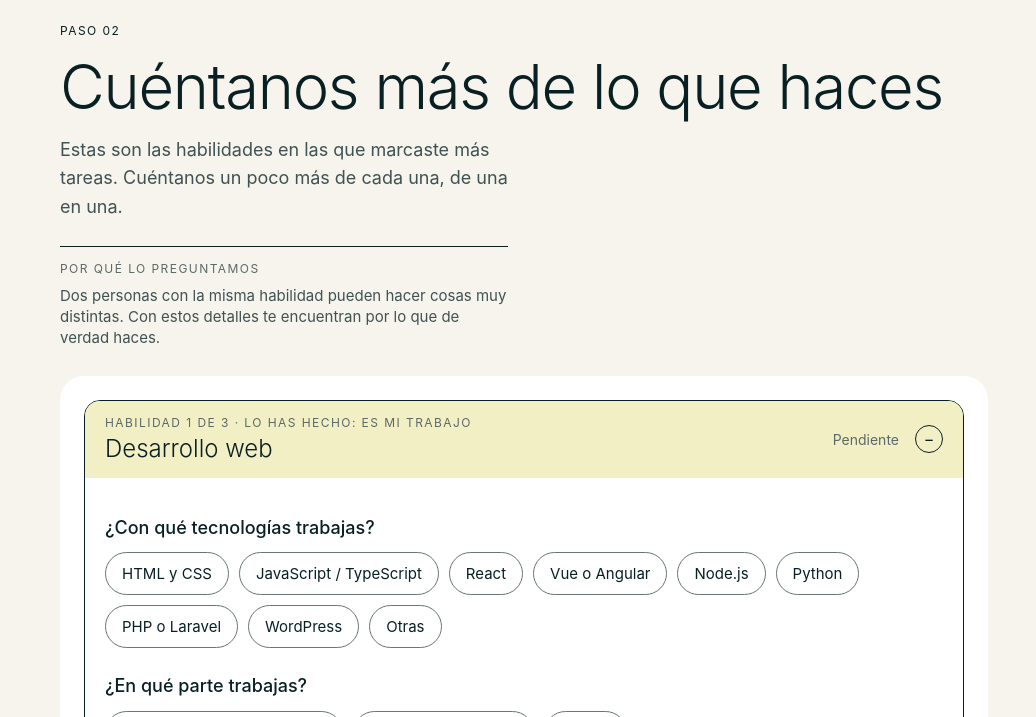
it: ProfundizarView › al contestar cuánto tiempo lleva, la sección pasa a "Lista" y, cerrada, resume lo contestado
Click the checkbox labelled "React".
click(486, 574)  # box [449,552,523,596]
(page scrolled)
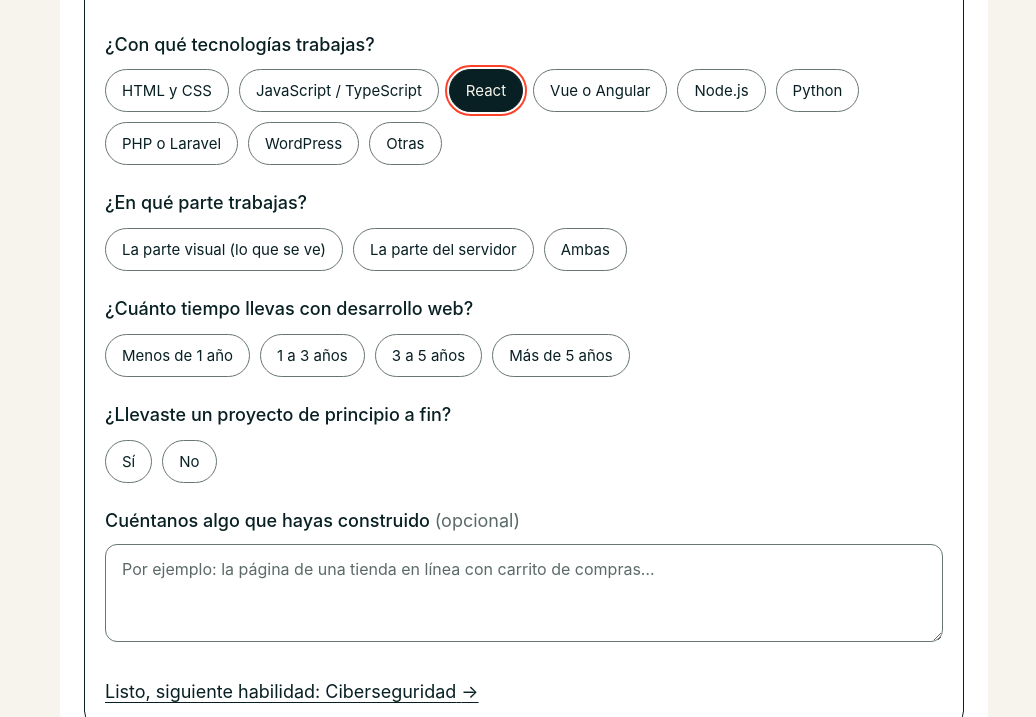
Click the radio button labelled "3 a 5 años".
click(428, 356)  # box [375,334,482,377]
(page scrolled)
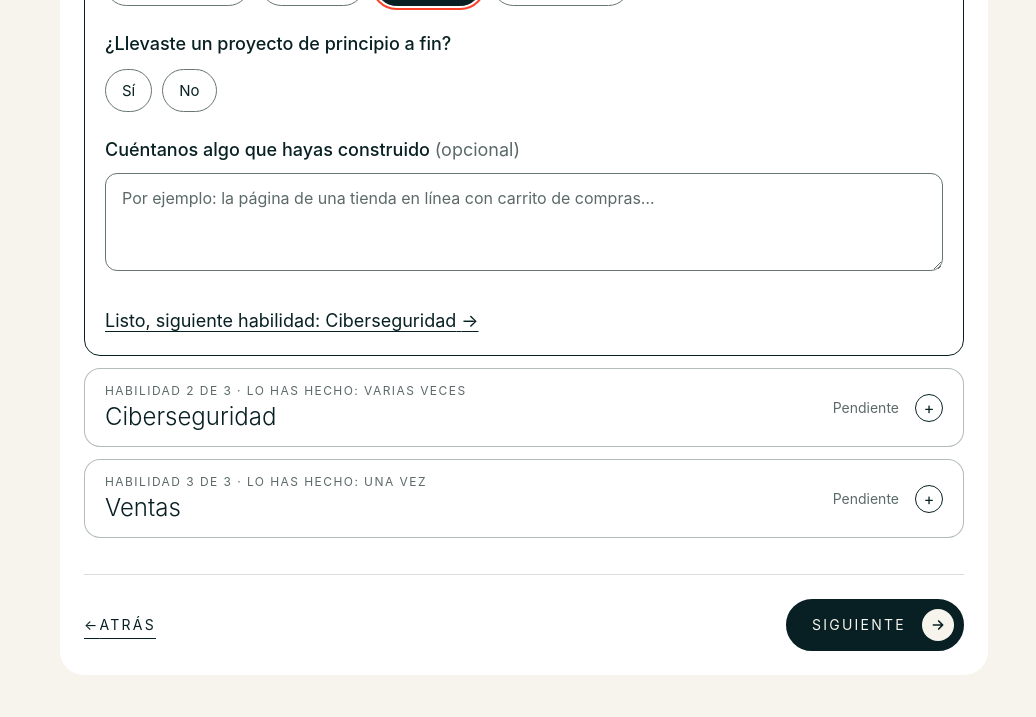
Click the button that starts with "Habilidad 2 de 3".
click(169, 391)  # box [85,370,963,446]
(page scrolled)
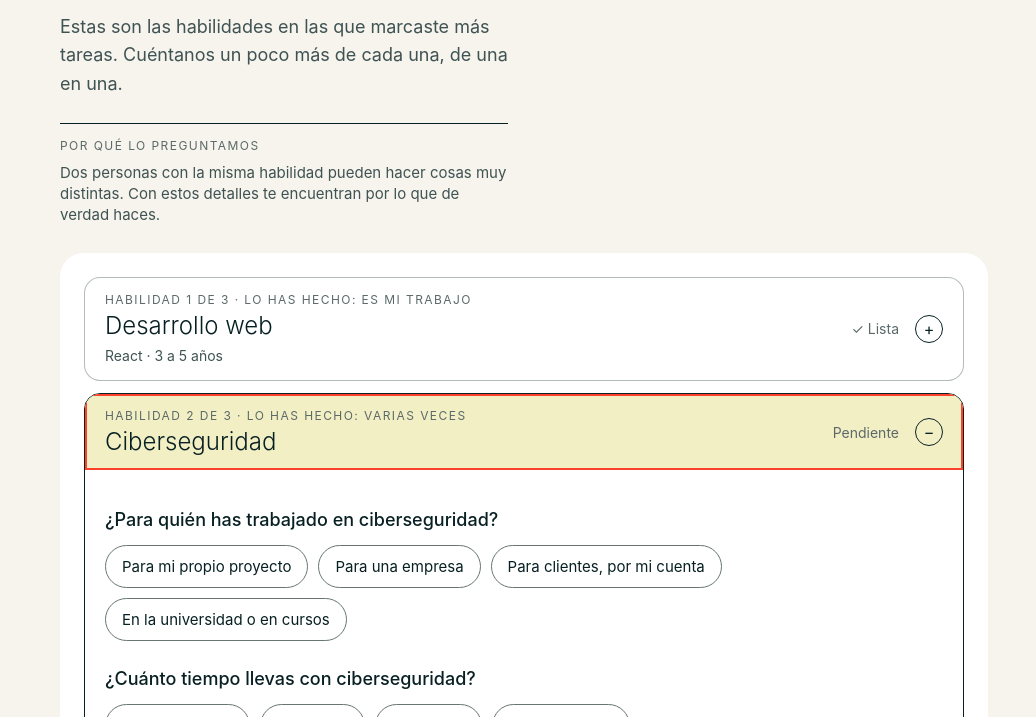
Expected: the text "React · 3 a 5 años" is shown, [105,347,223,364]
